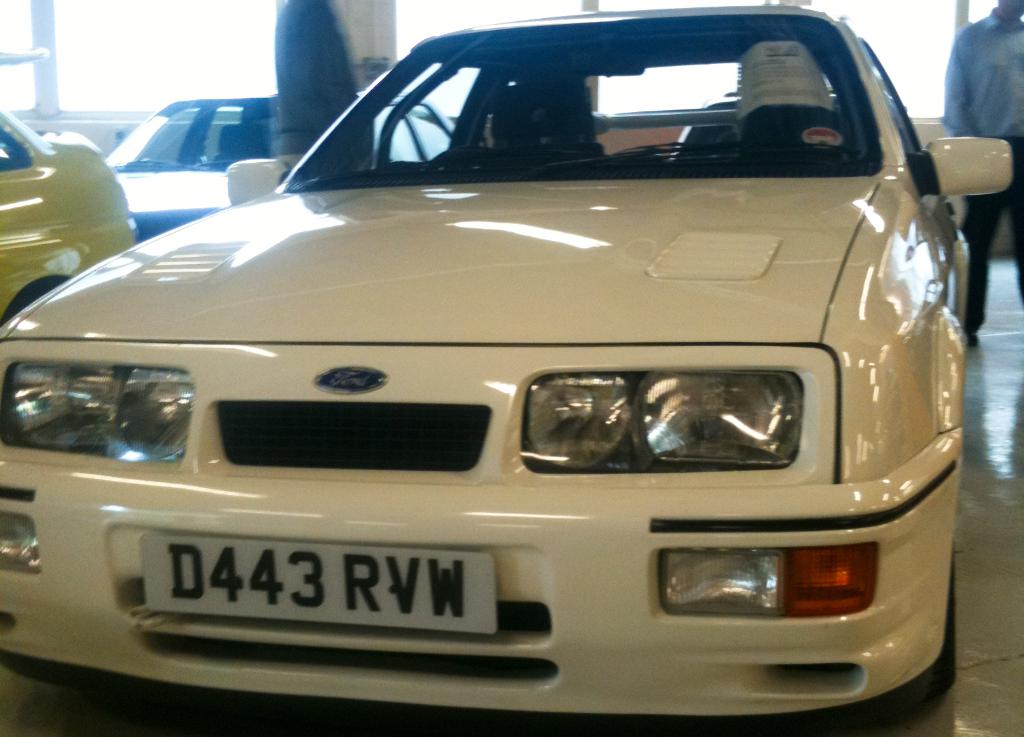Car: (0, 0, 1020, 736), (96, 92, 465, 240), (0, 118, 143, 328)
